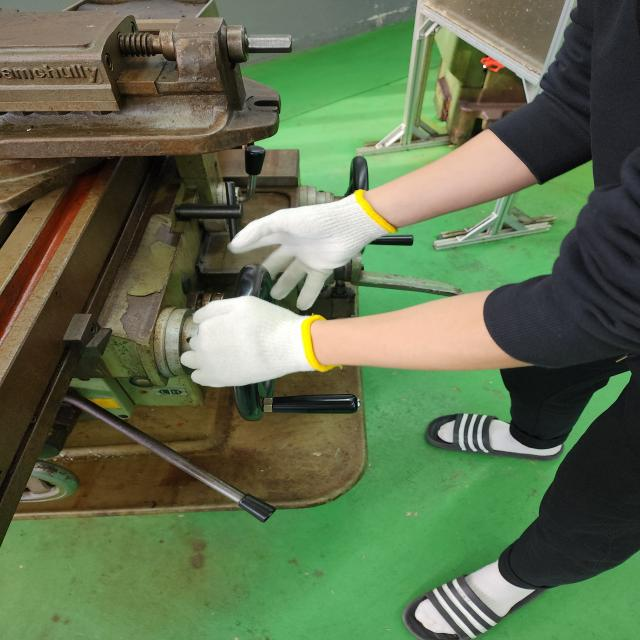Boots: (226, 184, 398, 283), (181, 297, 336, 388)
